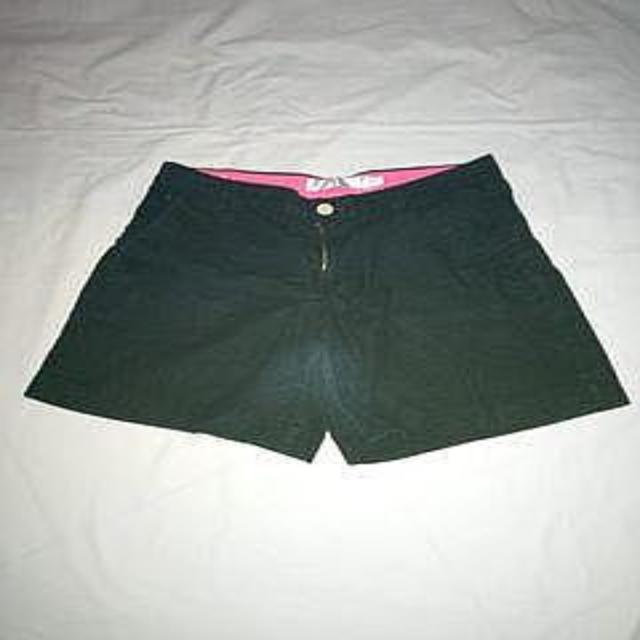SHORT: (12, 145, 640, 470)
